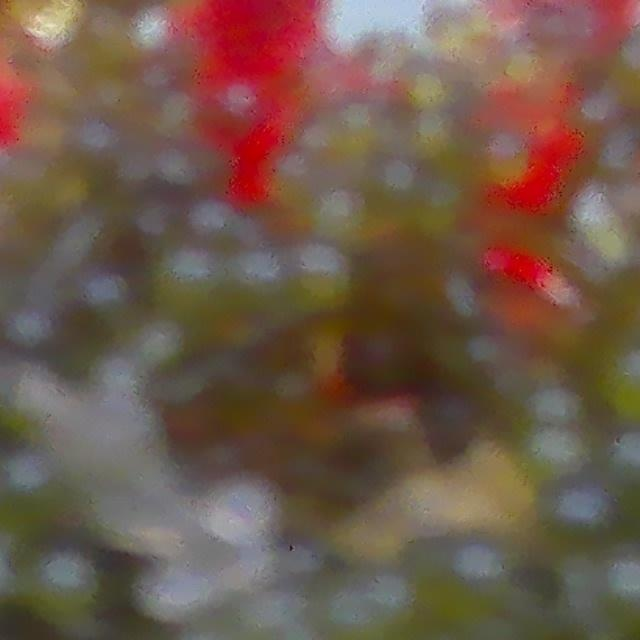SeaGrape: (194, 468, 281, 549), (28, 549, 99, 621), (138, 560, 207, 622)
